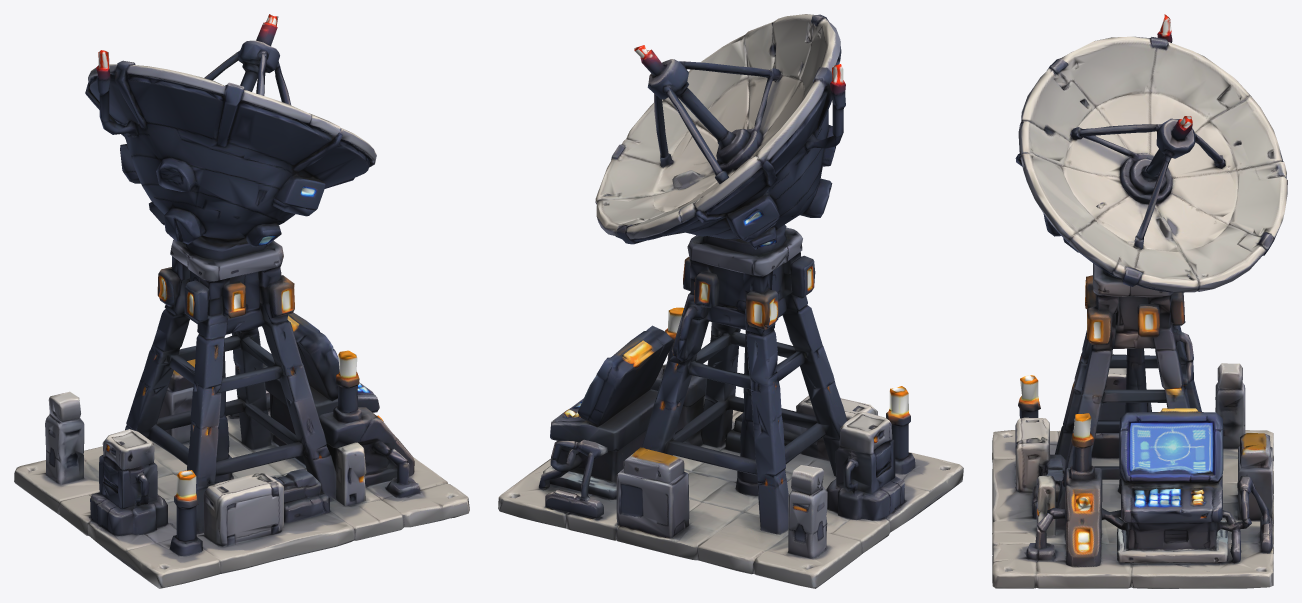
File: radio_tower.glb
3 renders of one model, left to right at view 1: azimuth 30°, elevation 25°; view 2: azimuth 150°, elevation 25°; view 3: azimuth 270°, elevation 25°, orthographic. The views are drawn at different scales.
Size of the model in its own units: 4.35 by 6.19 by 3.73.
1 material, 1 textured.
